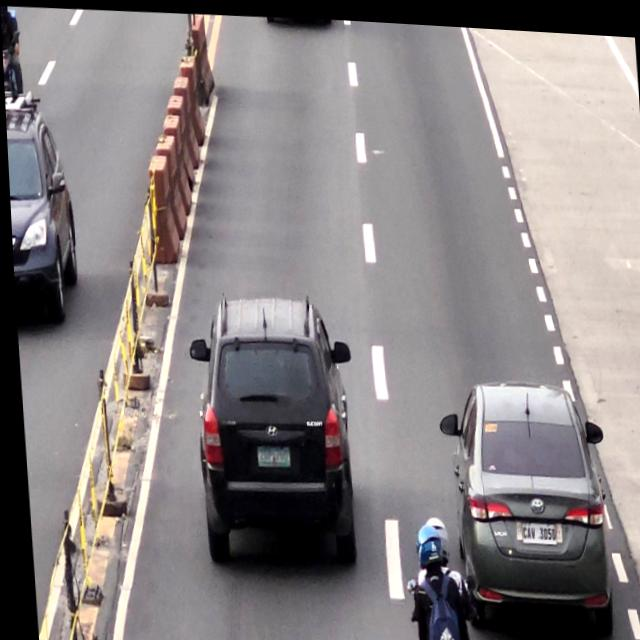Car: (184, 288, 353, 563), (444, 376, 611, 627)
License-Plate: (510, 510, 556, 541), (251, 439, 285, 464)
Motorcycle: (397, 508, 474, 640)
